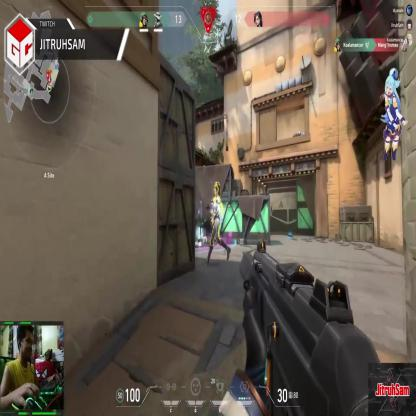enemy: (206, 182, 230, 264)
enemy_head: (213, 182, 219, 198)
